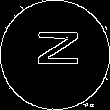N_W: (29, 34, 81, 76)
